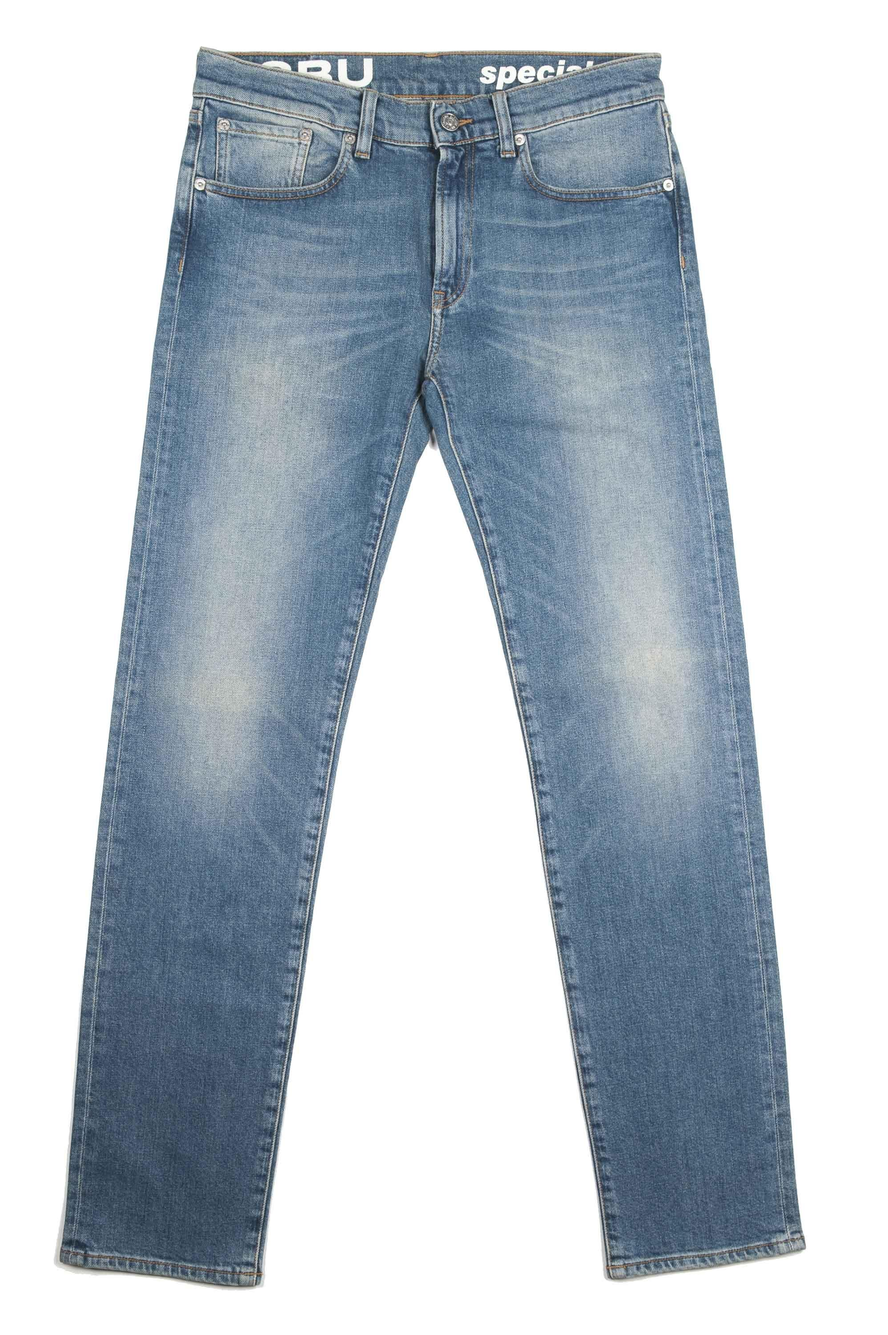Jeans: (43, 27, 818, 1304)
